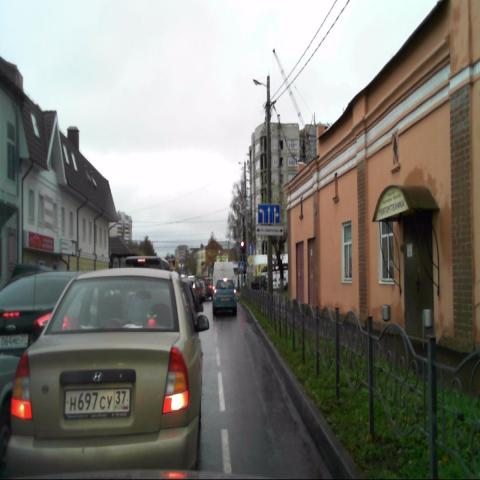5_15_1: (258, 204, 279, 224)
